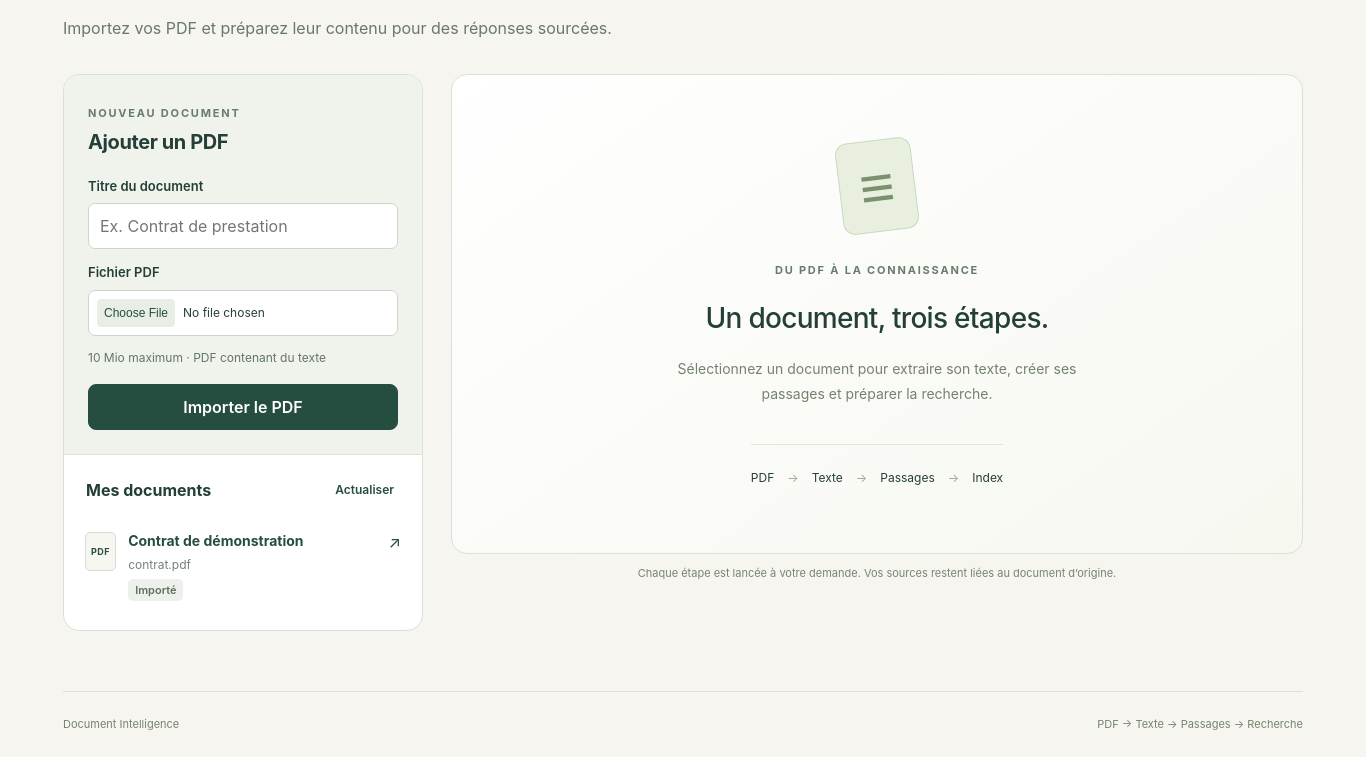
Test: Documents › runs each processing step and displays the final indexed state
The image size is (1366, 757).
(page scrolled)
Click the button "PDF Contrat de démonstration contrat.pdf Importé ↗": (101, 552) x1=74 y1=515 x2=412 y2=616
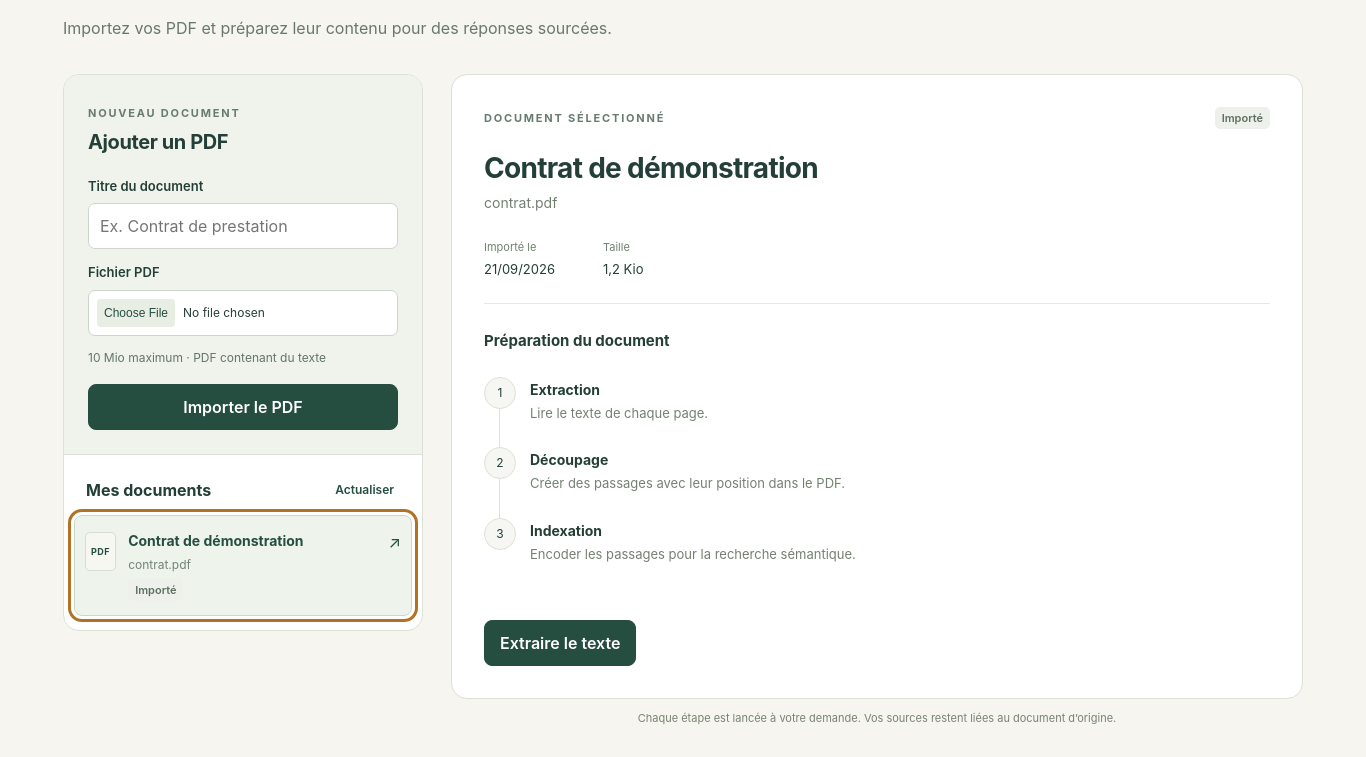
Click the button "Extraire le texte": (560, 643) x1=484 y1=620 x2=636 y2=666
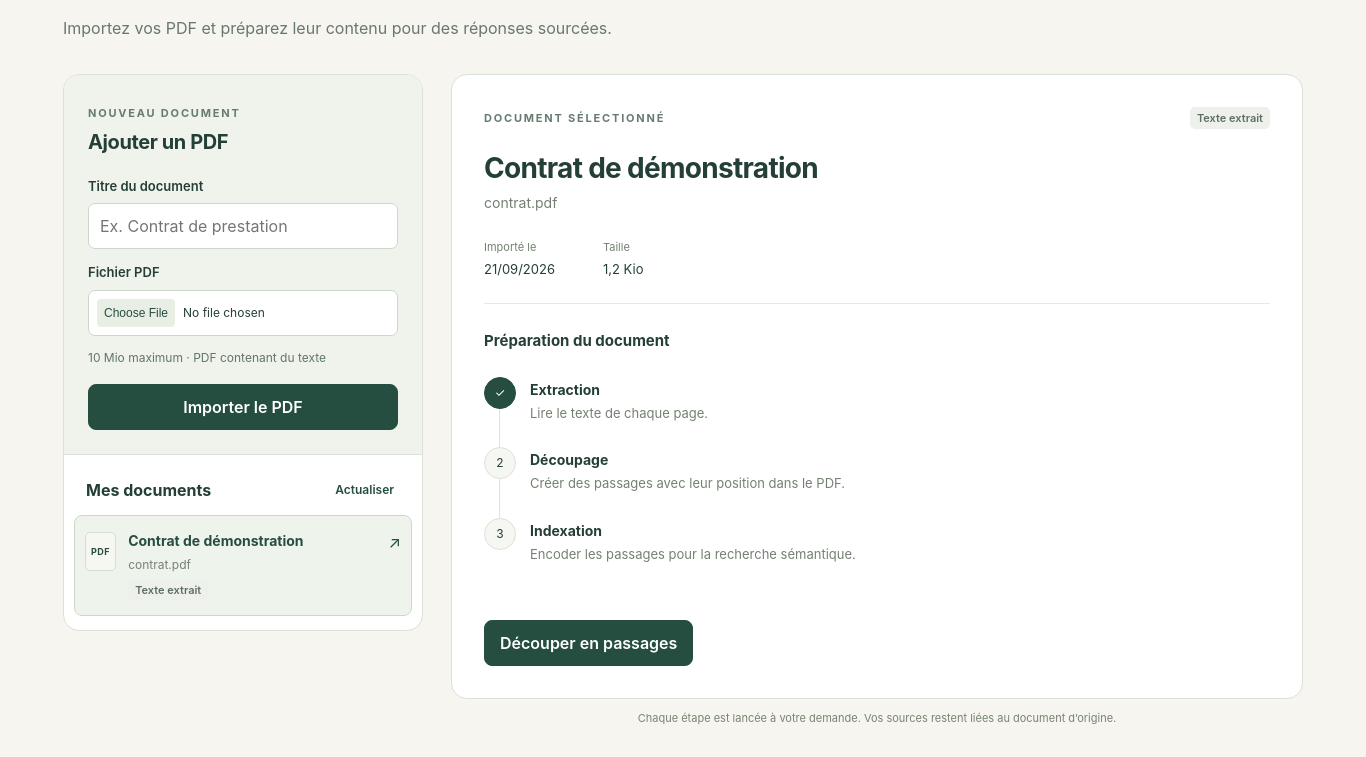
Click the button "Découper en passages": (589, 643) x1=484 y1=620 x2=693 y2=666
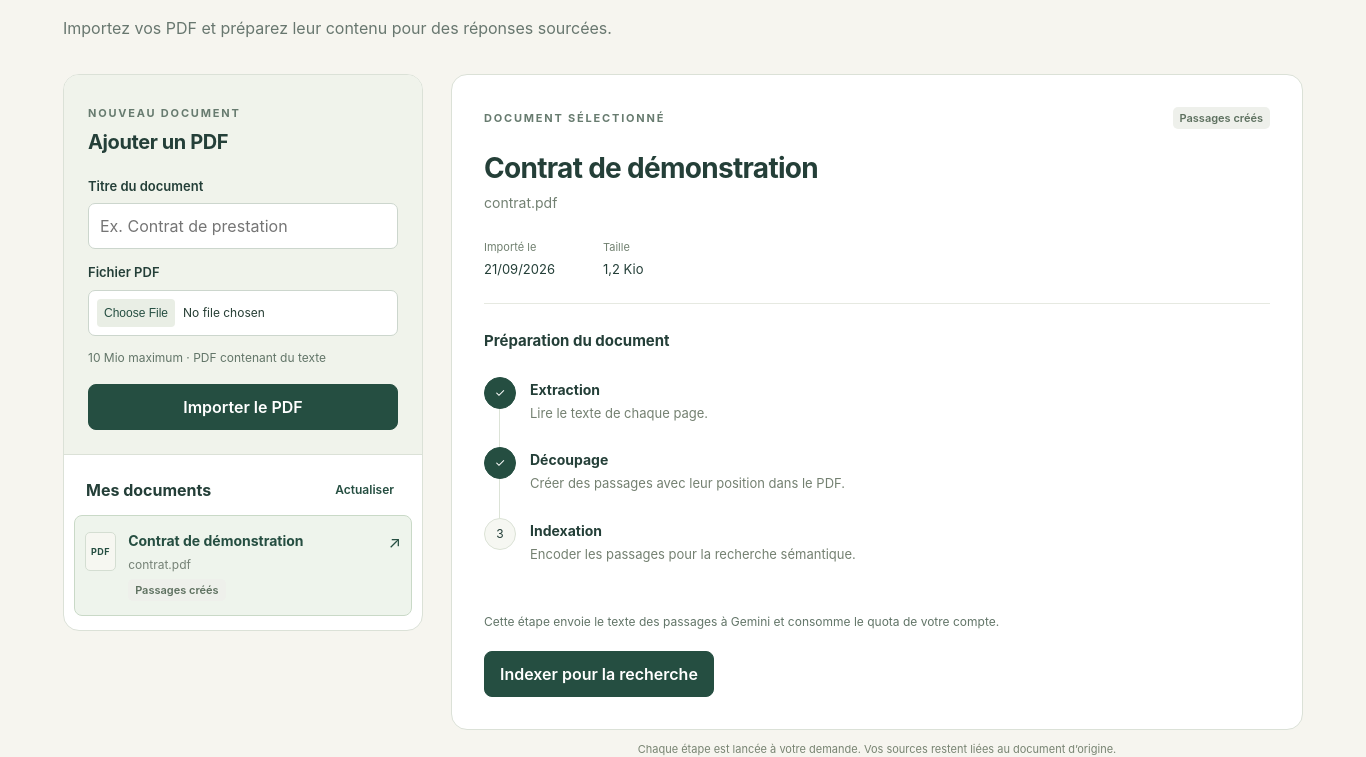
Click the button "Indexer pour la recherche": (599, 674) x1=484 y1=652 x2=714 y2=698
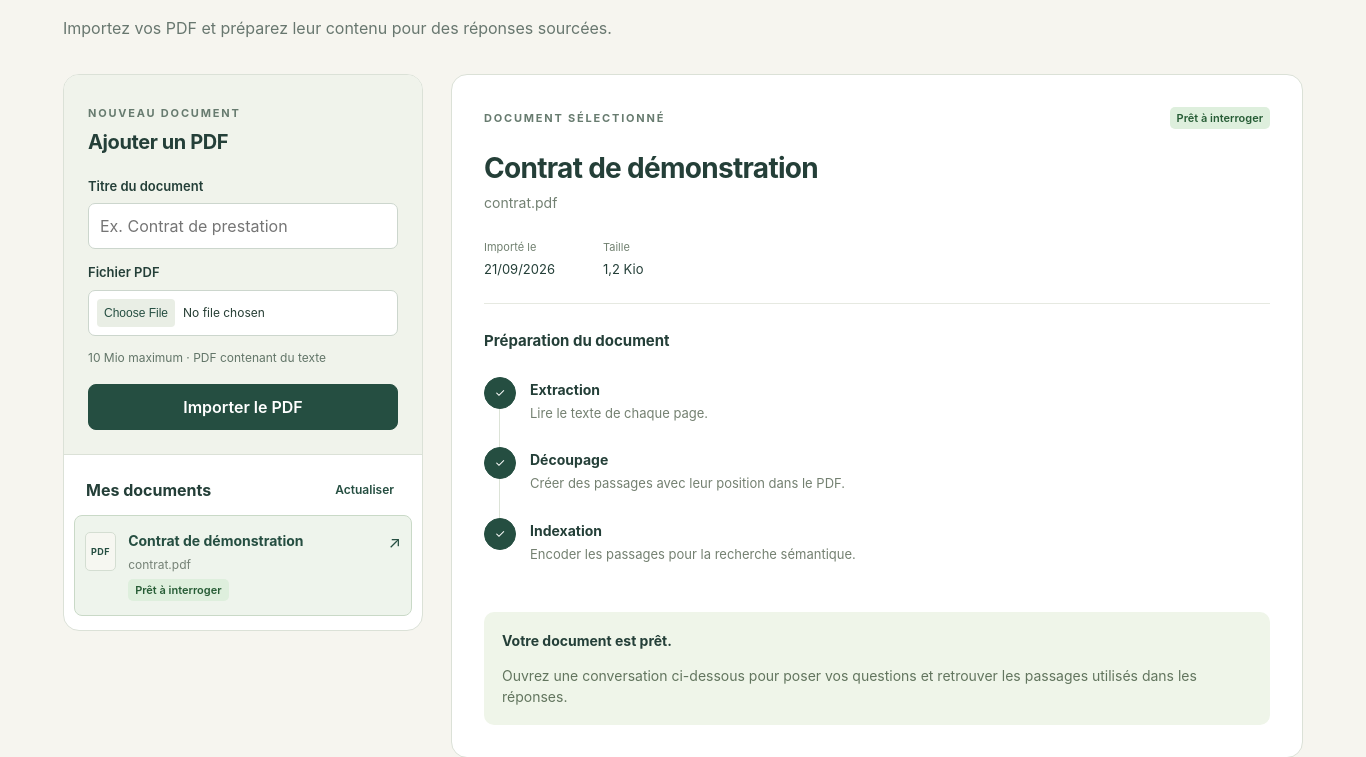
Expected: the text "Votre document est prêt." is shown, x1=502 y1=632 x2=672 y2=649
